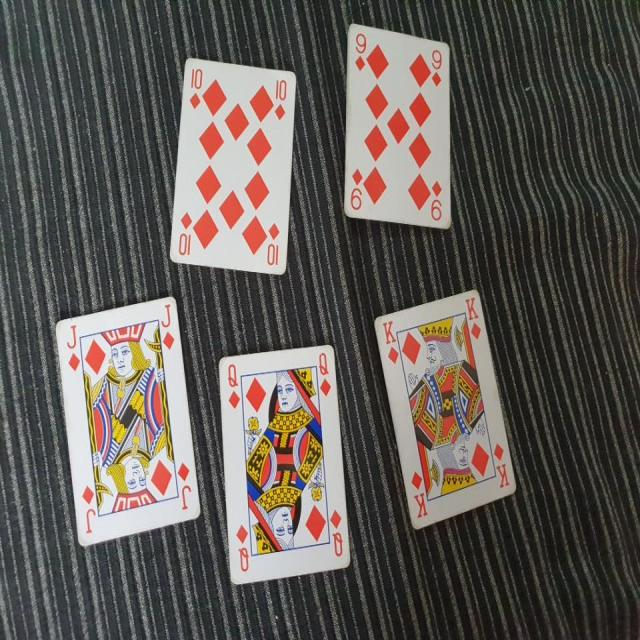10 Diamonds: (166, 56, 295, 279)
9 Diamonds: (340, 20, 453, 226)
J Diamonds: (52, 291, 201, 548)
K Diamonds: (372, 289, 517, 530)
Q Diamonds: (218, 340, 352, 586)
